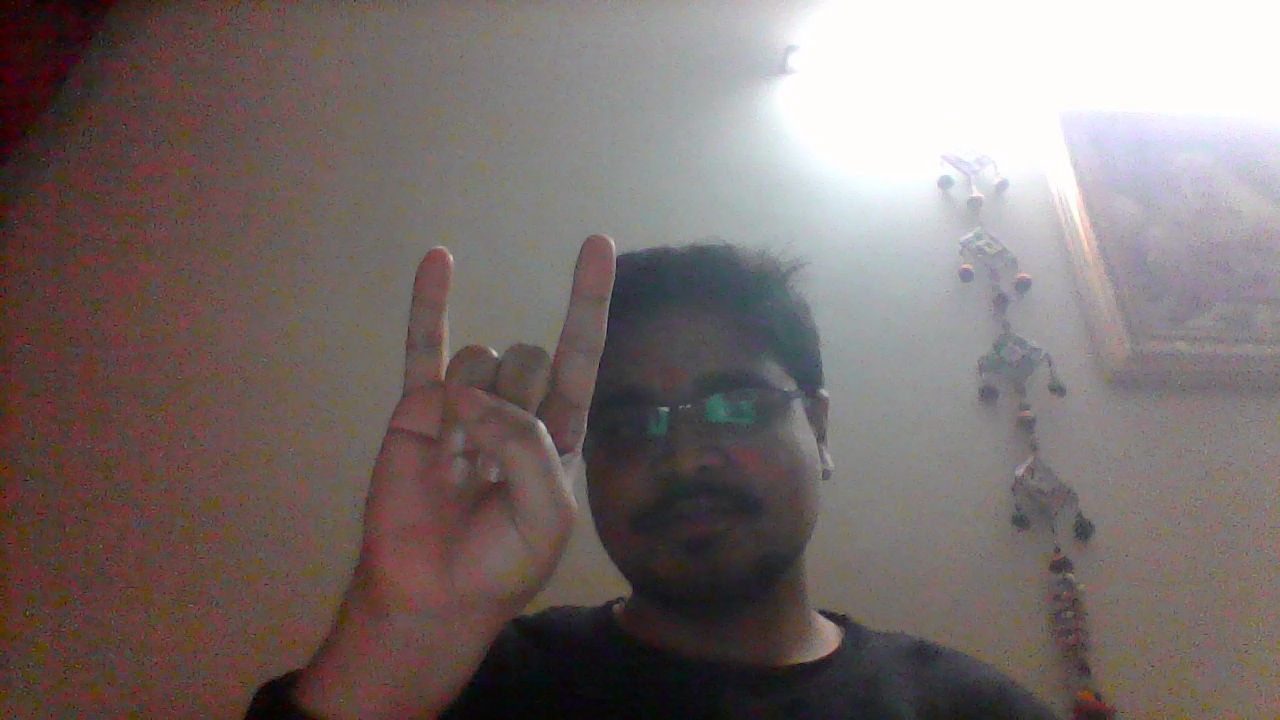ILoveYou: (362, 232, 621, 643)
